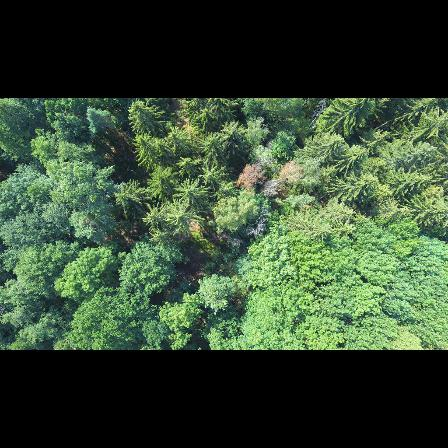Dead: (256, 175, 289, 200), (248, 210, 270, 238)
